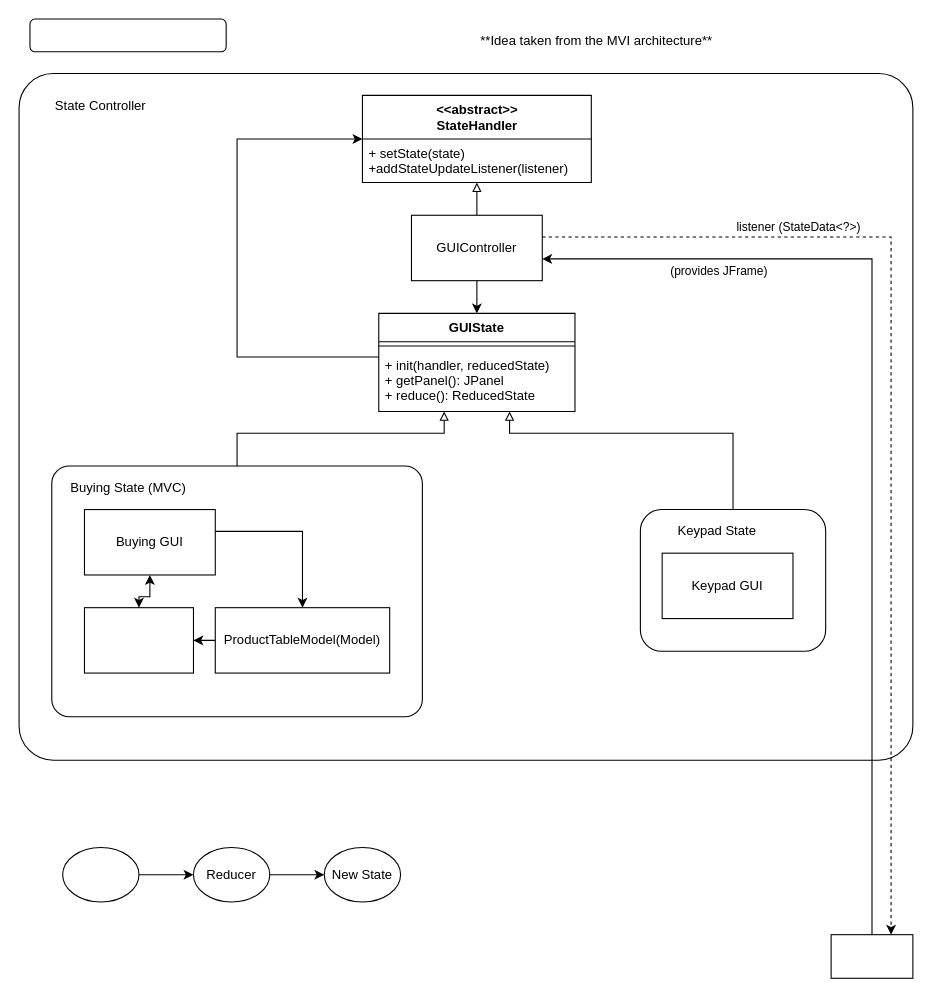
The diagram is 932 pixels wide and 997 high, and some of its shapes have lost their labels. Here are the shapes that lost their labels. From the top down, the centre of each, then its label:
[127,35]: MVC architecture combined with "State-Reducer-Controller"
[138,640]: View (JTable, ...)
[100,874]: State
[871,956]: Checkout
